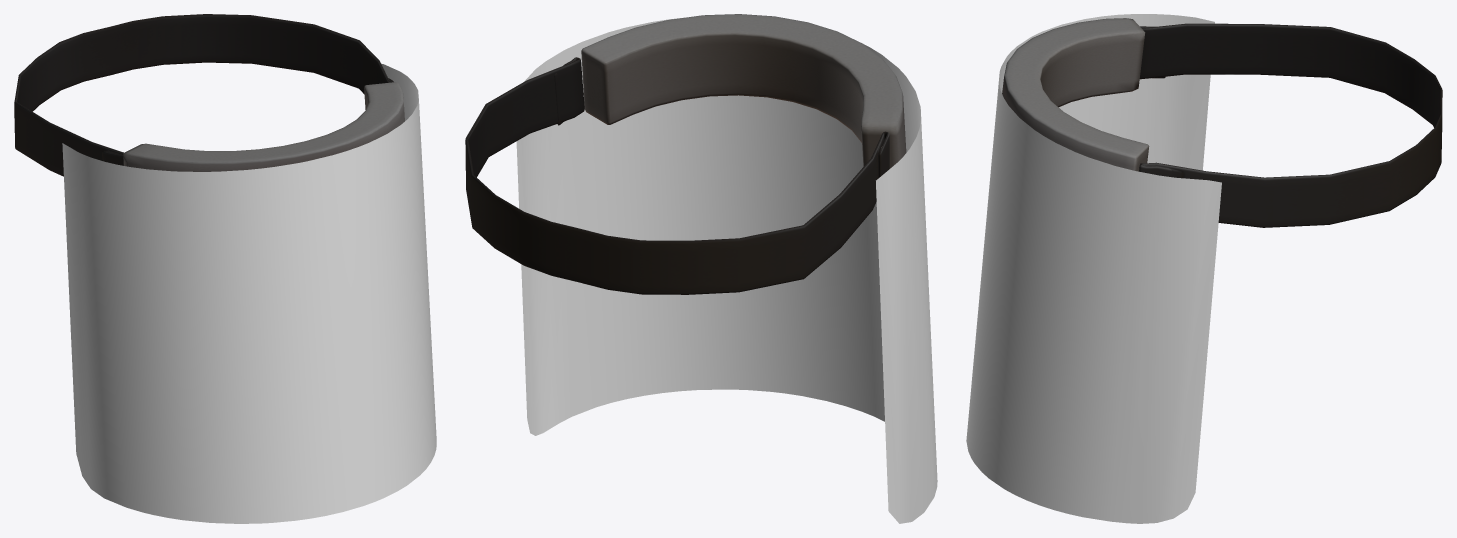
The model's file is faceshield.fbx.
3 renders of one model, left to right at view 1: azimuth 30°, elevation 25°; view 2: azimuth 150°, elevation 25°; view 3: azimuth 270°, elevation 25°, orthographic. The views are drawn at different scales.
Visible parts, largest first — view 1: FaceShield_glass001, FaceShield_strap001, FaceShield_foam001; view 2: FaceShield_glass001, FaceShield_strap001, FaceShield_foam001; view 3: FaceShield_glass001, FaceShield_strap001, FaceShield_foam001.
Boxes of the visible parts, x1,y1,x2,y2 form: FaceShield_glass001: (62,63,436,523); FaceShield_strap001: (14,14,393,176); FaceShield_foam001: (123,82,404,171); FaceShield_glass001: (516,17,937,523); FaceShield_strap001: (465,57,889,294); FaceShield_foam001: (581,14,906,168); FaceShield_glass001: (966,14,1221,523); FaceShield_strap001: (1139,23,1442,227); FaceShield_foam001: (1002,18,1149,171).
Size of the model in its own units: 6.51 by 6.75 by 7.91.
2 materials, 1 textured.
